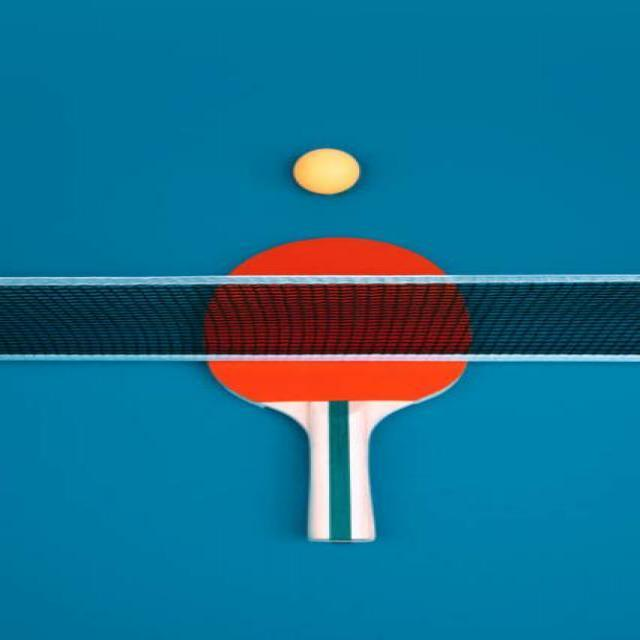oball: (290, 146, 365, 196)
